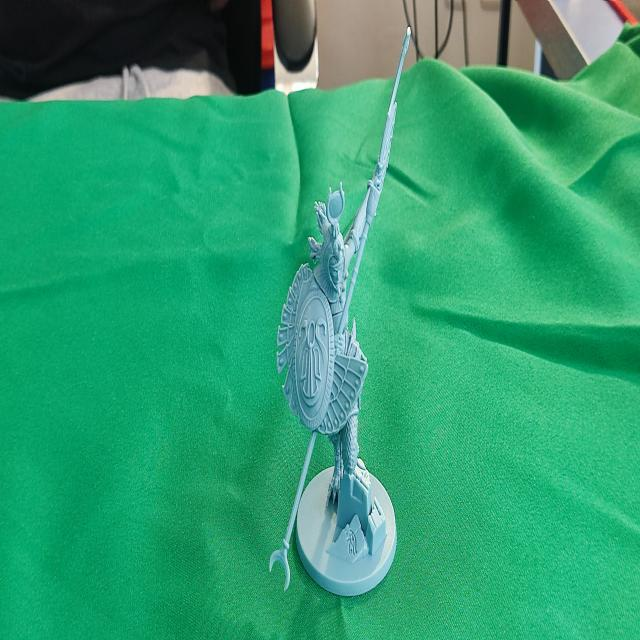isis: (264, 17, 425, 628)
